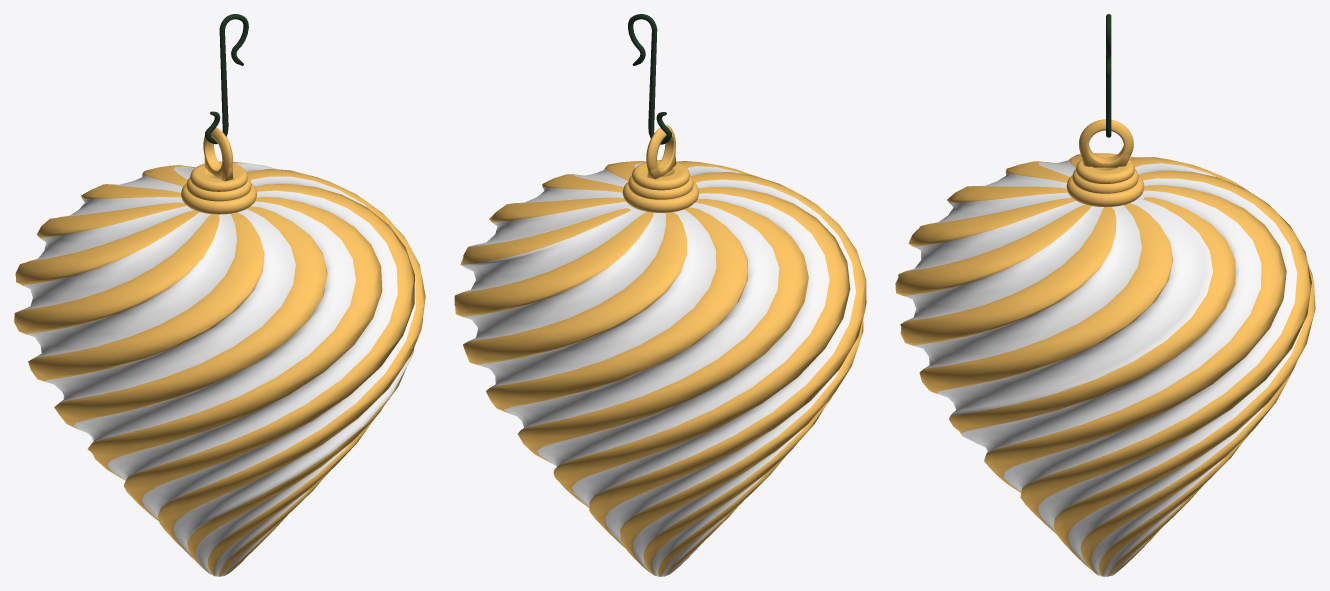
The model's file is Pallina_natalizia_05.fbx.
3 views of the same model, side by side, from view 1: azimuth 30°, elevation 25°; view 2: azimuth 150°, elevation 25°; view 3: azimuth 270°, elevation 25° (orthographic). The views are drawn at different scales.
Parts seen in each view (by area): view 1: Pallina_natalizia_05; view 2: Pallina_natalizia_05; view 3: Pallina_natalizia_05.
Boxes of the visible parts, bbox=[...] form: Pallina_natalizia_05: bbox=[14, 14, 425, 576]; Pallina_natalizia_05: bbox=[454, 14, 866, 576]; Pallina_natalizia_05: bbox=[895, 14, 1315, 576].
Bounding box in the file's own units: 11.84 × 17.73 × 11.87.
